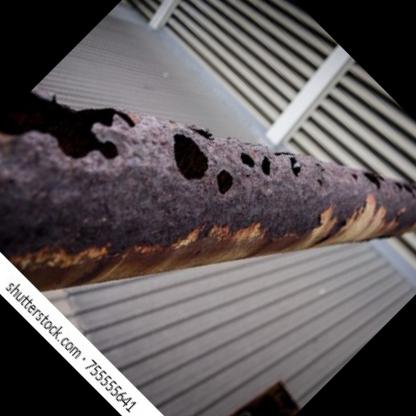burst: (160, 117, 275, 211), (1, 101, 149, 164)
